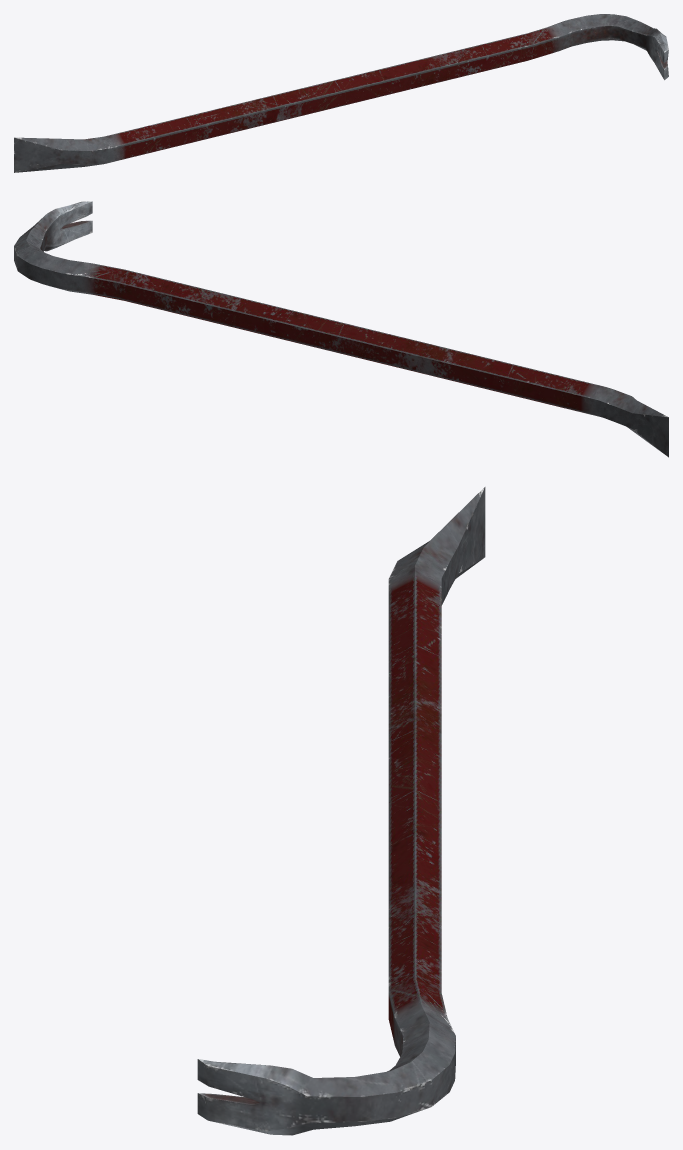
Rendered from Crowbar.fbx.
3 views of the same model, one above another, from view 1: azimuth 30°, elevation 25°; view 2: azimuth 150°, elevation 25°; view 3: azimuth 270°, elevation 25° (orthographic). The views are drawn at different scales.
Parts seen in each view (by area): view 1: Crowbar; view 2: Crowbar; view 3: Crowbar.
Boxes of the visible parts, x1=… form: Crowbar: x1=14, y1=14, x2=668, y2=172; Crowbar: x1=14, y1=201, x2=668, y2=457; Crowbar: x1=197, y1=487, x2=485, y2=1135.
Size of the model in its own units: 501 by 28.1 by 104.
